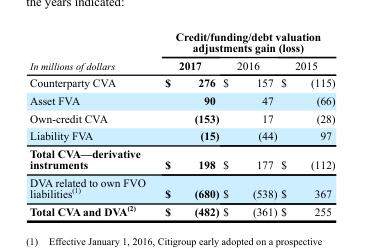table: (29, 29, 334, 217)
table column: (29, 29, 154, 217), (154, 29, 220, 217), (220, 29, 278, 217), (278, 29, 334, 217)
table column header: (29, 29, 334, 73)
table row: (29, 144, 334, 173), (29, 173, 334, 201), (29, 29, 334, 55), (29, 55, 334, 73), (29, 73, 334, 91), (29, 108, 334, 126), (29, 126, 334, 144), (29, 91, 334, 108), (29, 201, 334, 217)
table spanning cell: (29, 29, 154, 73), (154, 29, 334, 55)
